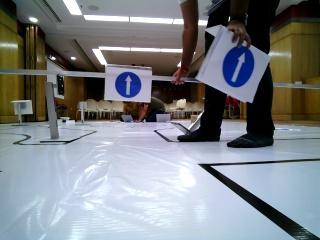straight: (209, 31, 265, 95), (103, 62, 151, 100)
